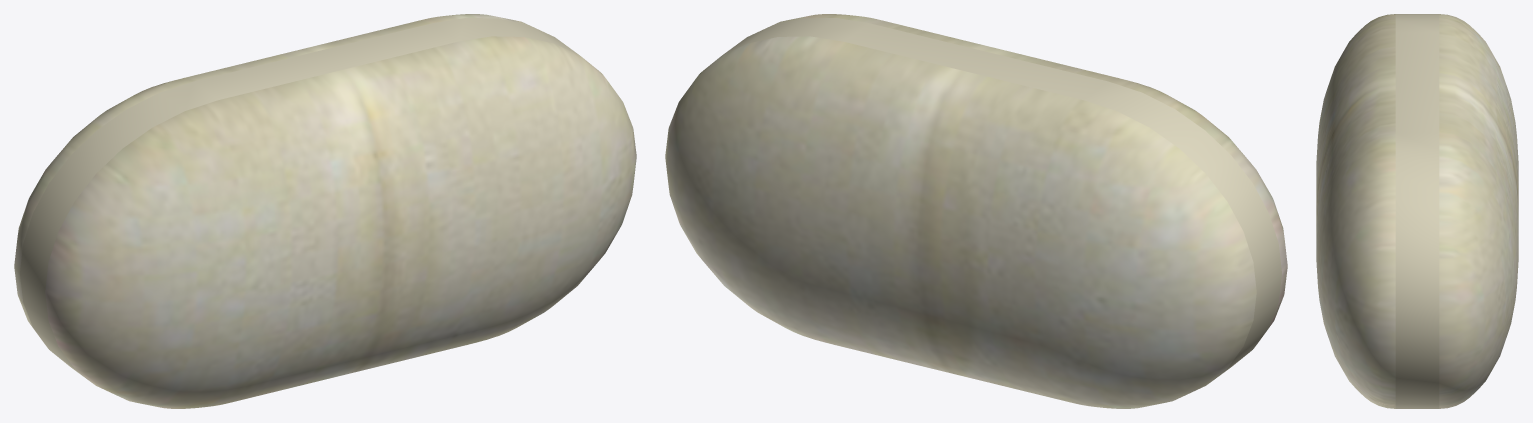
Rendered from 20140311GOPHDRGPT02248.fbx.
The picture shows the model from 3 angles, left to right: view 1: azimuth 30°, elevation 25°; view 2: azimuth 150°, elevation 25°; view 3: azimuth 270°, elevation 25°; orthographic projection. The views are drawn at different scales.
Parts seen in each view (by area): view 1: 球體.005; view 2: 球體.005; view 3: 球體.005.
Boxes of the visible parts, <box> form: 球體.005: <box>14,14,636,408</box>; 球體.005: <box>665,14,1287,408</box>; 球體.005: <box>1316,14,1518,408</box>.
Size of the model in its own units: 1.4 by 0.6862 by 0.4884.
